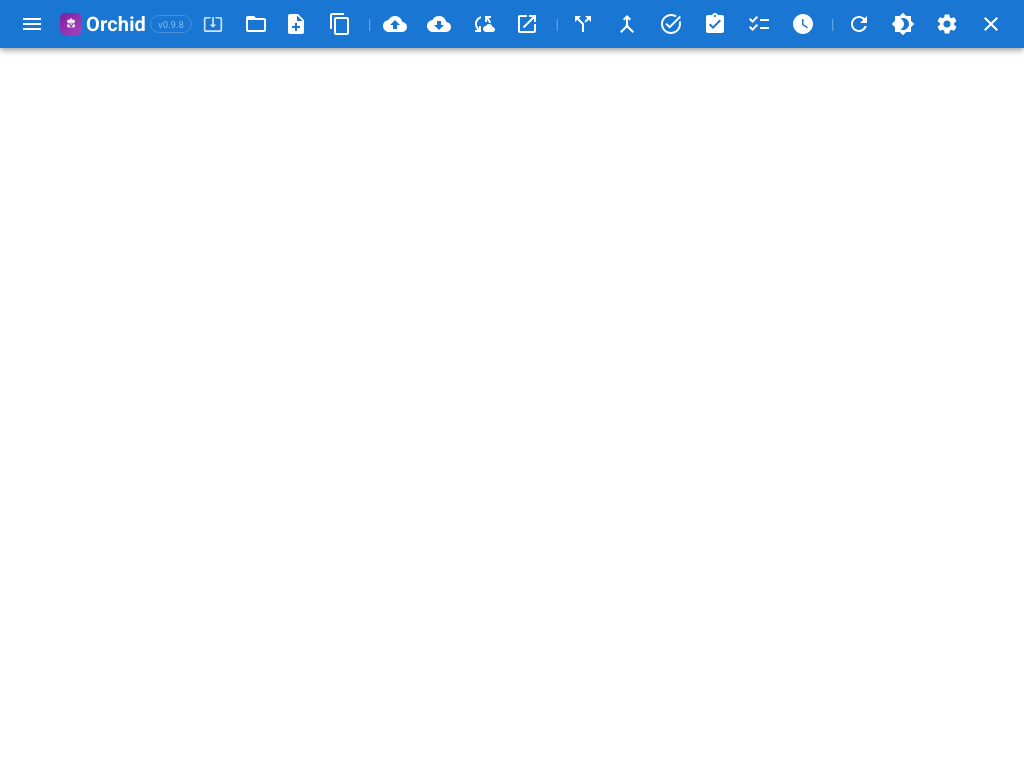
it: cancel closes confirm modal
This screenshot has width=1024, height=768.
Click the button named "Push".
click(396, 24)  # box [376,4,416,44]
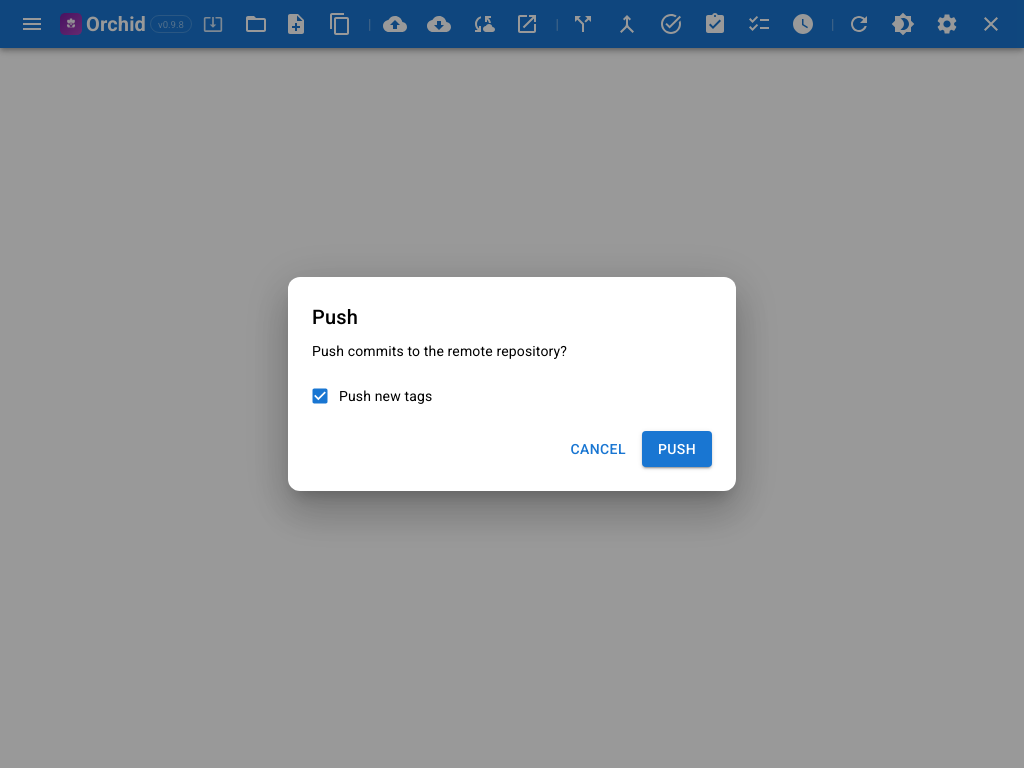
Now the text "Push commits to the remote repository?" is shown, box [312,343,567,359]
Click the button "Cancel".
click(598, 449)  # box [562,431,634,467]
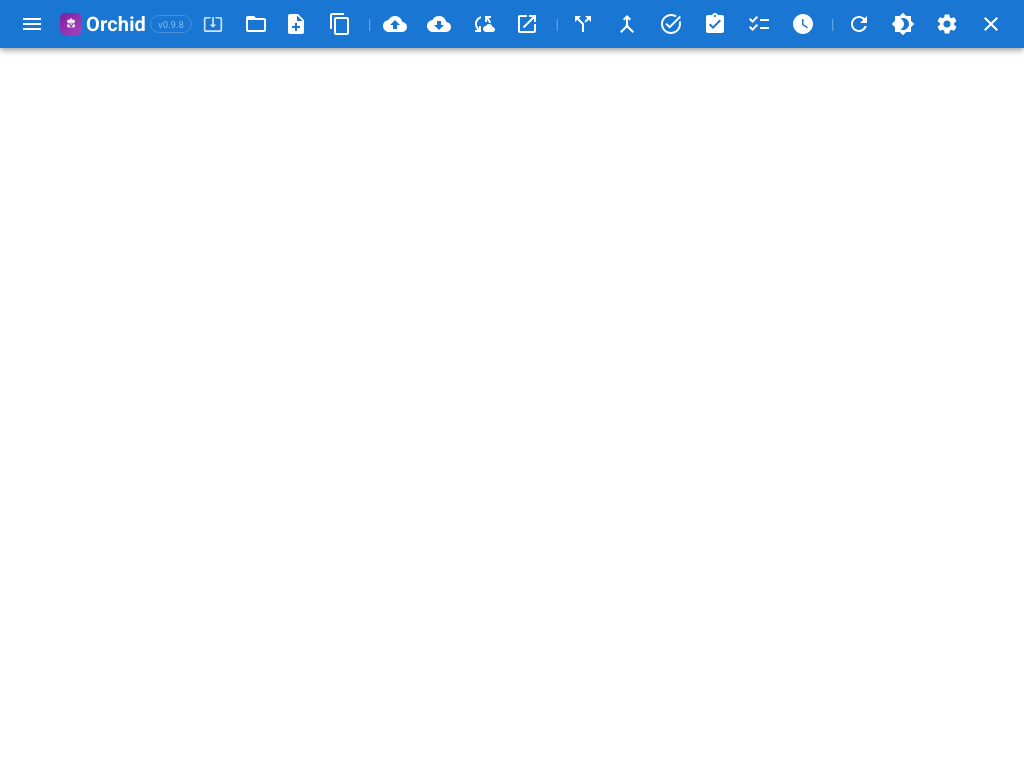
Now the text "Push commits" is gone
